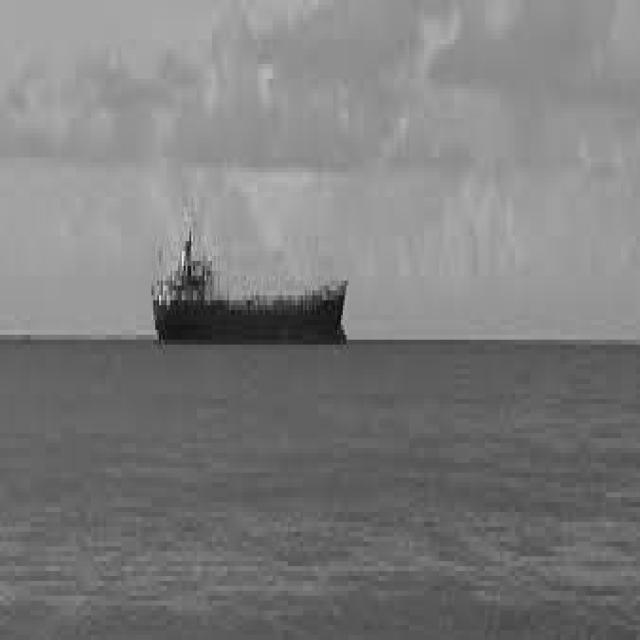cargoship: (148, 216, 354, 338)
